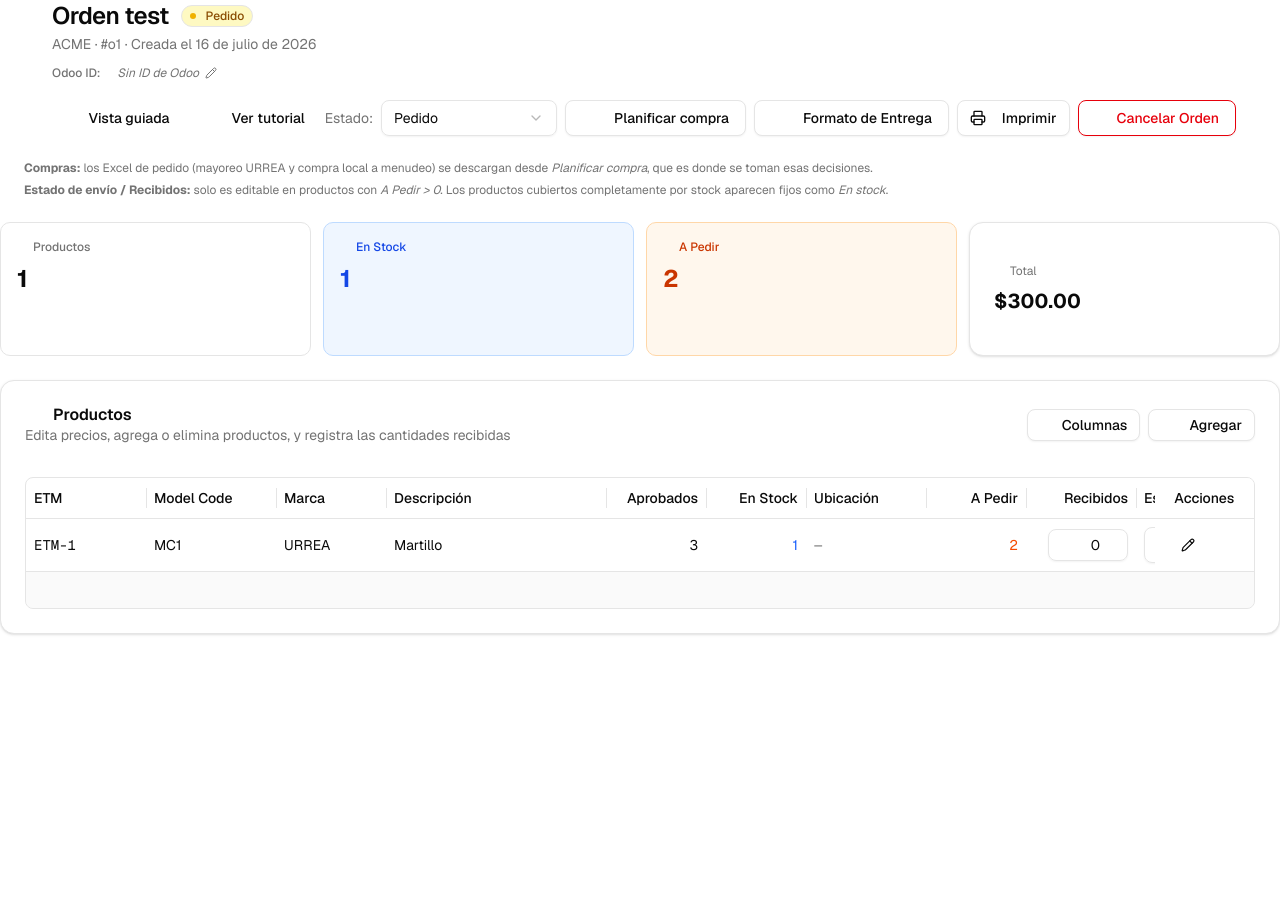
Test: OrderDetail — recepción con excedente › el resumen muestra código URREA y descripción, no el ETM del cliente (#146)
Replace the text in the number field with "2" at (1088,544), box [1048,528,1128,560]
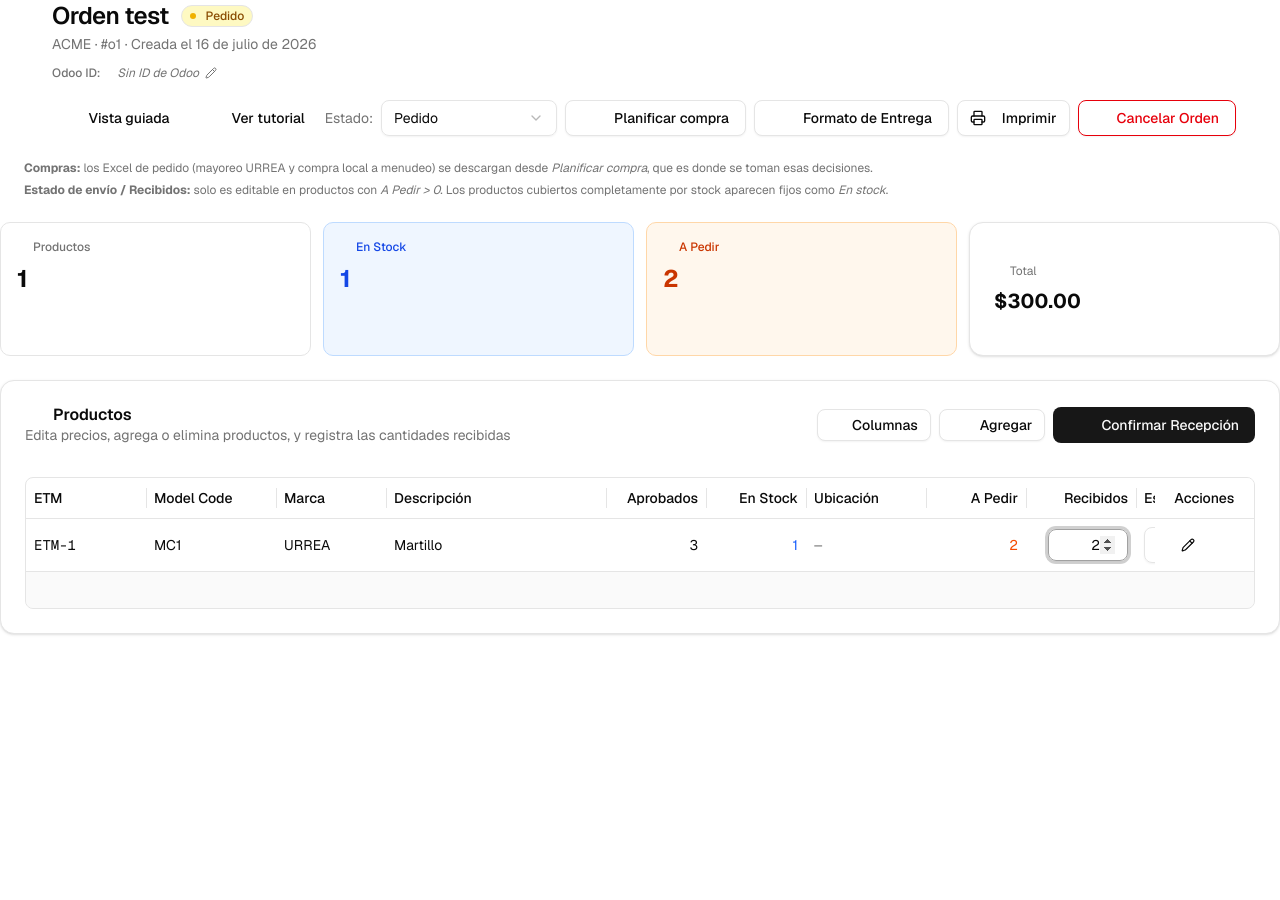
Click the button "Confirmar Recepción".
click(1154, 425)  # box [1053,407,1255,443]
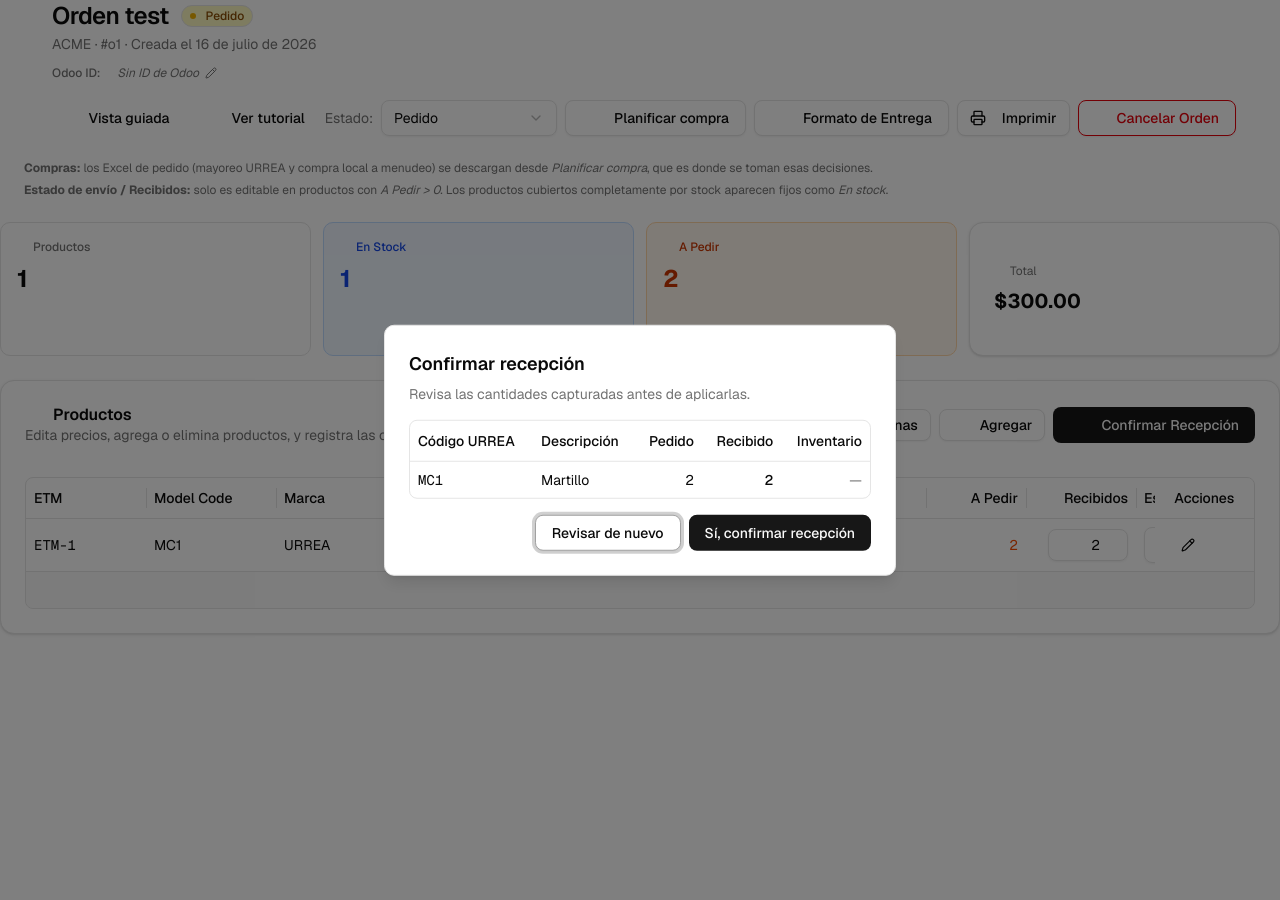
Check: the column heading "Código URREA" is shown, box [410,421,533,461]
Check: the column heading "Descripción" is shown, box [533,421,635,461]
Check: the text "MC1" is shown, box [410,461,533,497]
